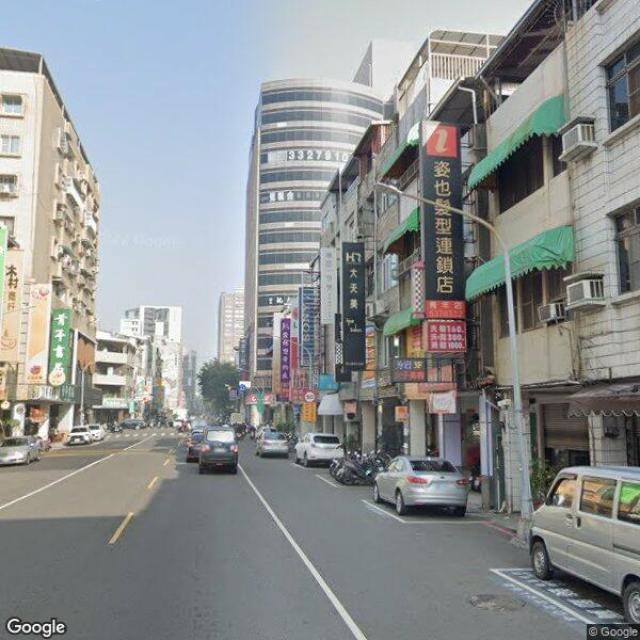Legalparking: (286, 408, 640, 640)
illegalparking: (0, 402, 123, 472)
